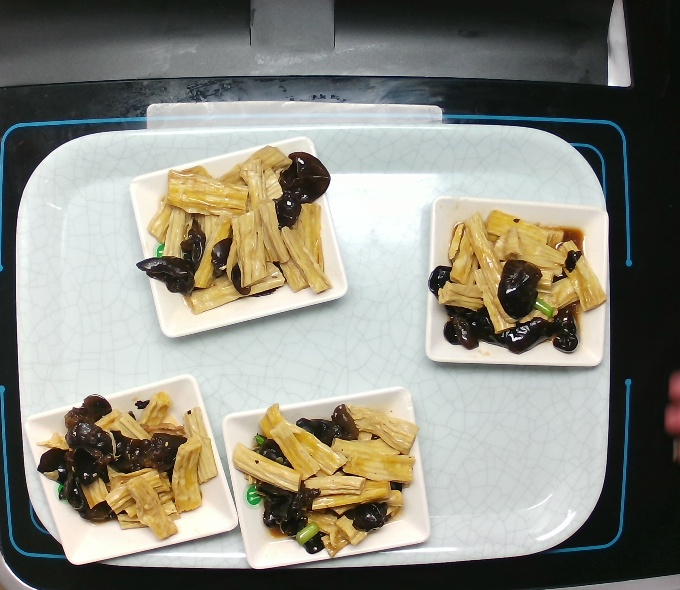wcq-MuErFuZhu: (138, 141, 341, 315), (230, 391, 421, 567), (424, 193, 613, 357), (35, 381, 220, 546)
